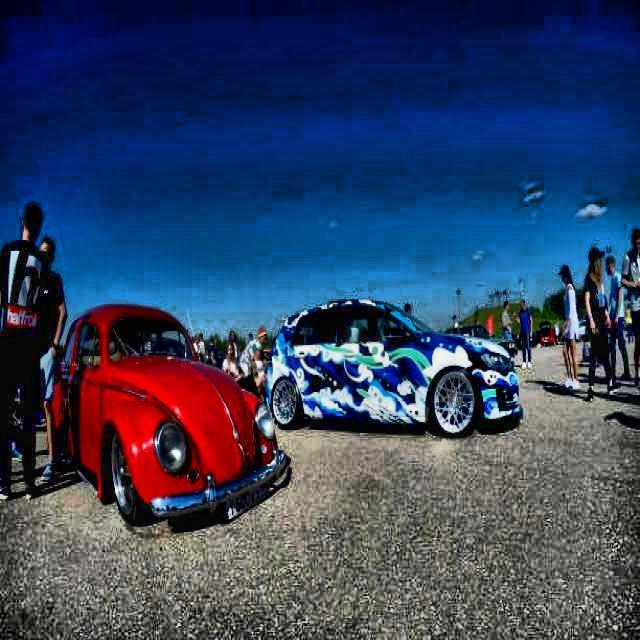carro: (53, 308, 287, 512), (268, 297, 508, 420)
